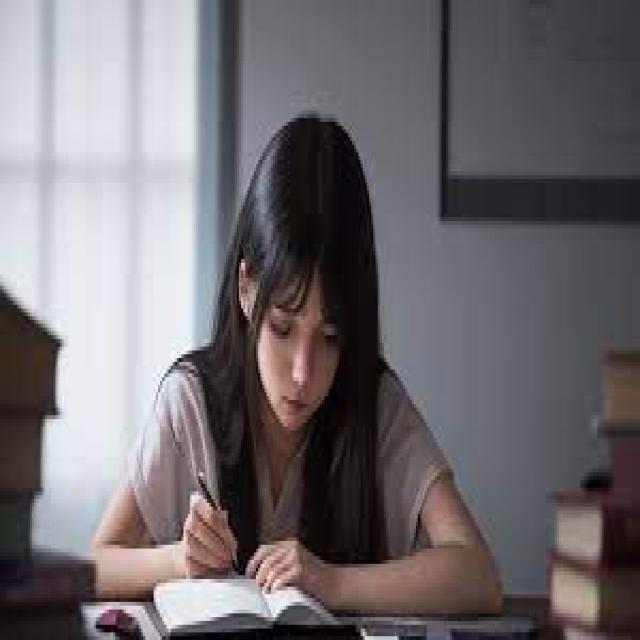studying-person: (80, 102, 509, 637)
